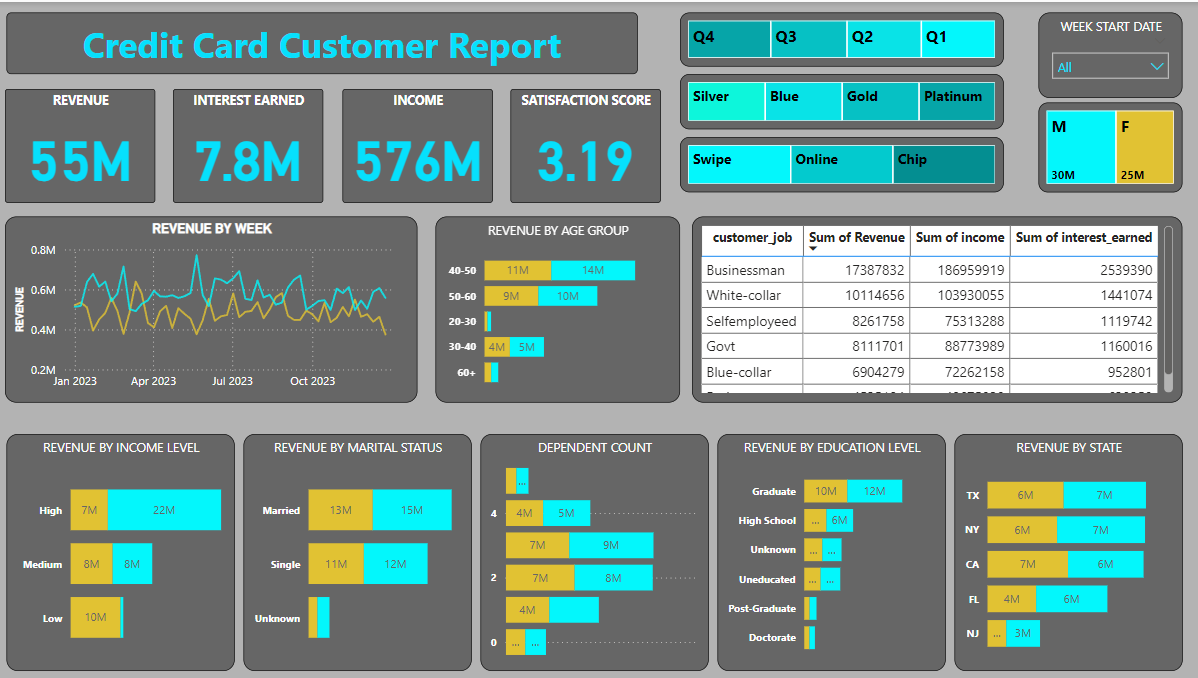

This screenshot's page, from the dashboard's own definition file:
{"tool":"powerbi","page":{"name":"cc customer","canvas":[1280,720],"ordinal":0},"visuals":[{"type":"textbox","box":[11.1,11.1,669.6,65.2],"z":0},{"type":"barChart","title":" REVENUE BY EDUCATION LEVEL","fields":{"Category":["public cust_detail.education_level"],"Y":["Sum(public cc_detail.Revenue)"],"Series":["public cust_detail.gender"]},"box":[765.1,458.1,241.8,251.3],"z":1000},{"type":"tableEx","fields":{"Values":["public cust_detail.customer_job","Sum(public cc_detail.Revenue)","Sum(public cust_detail.income)","Sum(public cc_detail.interest_earned)"]},"box":[738,227.5,520.1,197.2],"z":2000},{"type":"card","title":"REVENUE","fields":{"Values":["Sum(public cc_detail.Revenue)"]},"box":[9.5,92.3,159.1,120.9],"z":3000},{"type":"card","title":"SATISFACTION SCORE","fields":{"Values":["Avg(public cust_detail.cust_satisfaction_score)"]},"box":[545.6,92.3,159.1,120.9],"z":4000},{"type":"card","title":"INCOME","fields":{"Values":["Sum(public cust_detail.income)"]},"box":[366.9,92.3,159.1,120.9],"z":5000},{"type":"card","title":"INTEREST EARNED","fields":{"Values":["Sum(public cc_detail.interest_earned)"]},"box":[188.2,92.3,159.1,120.9],"z":6000},{"type":"slicer","title":"WEEK START DATE","fields":{"Values":["public cc_detail.week_start_date"]},"box":[1105.5,11.1,152.7,90.7],"z":7000},{"type":"treemap","fields":{"Group":["public cc_detail.qtr"],"Values":["Avg(public cc_detail.client_num)"]},"box":[725.3,11.1,343.6,57.3],"z":8000},{"type":"treemap","fields":{"Group":["public cust_detail.gender"],"Values":["Sum(public cc_detail.Revenue)"]},"box":[1105.5,106.6,152.7,95.4],"z":9000},{"type":"treemap","fields":{"Values":["Avg(public cc_detail.client_num)"],"Group":["public cc_detail.card_category"]},"box":[725.3,76.3,343.6,58.9],"z":10000},{"type":"lineChart","title":"REVENUE BY WEEK","fields":{"Y":["Sum(public cc_detail.Revenue)"],"Series":["public cust_detail.gender"],"Category":["public cc_detail.week_start_date.Variation.Date Hierarchy.Year","public cc_detail.week_start_date.Variation.Date Hierarchy.Month","public cc_detail.week_start_date.Variation.Date Hierarchy.Day"]},"box":[9.5,227.5,437.4,197.2],"z":11000},{"type":"barChart","title":" REVENUE BY AGE GROUP","fields":{"Category":["public cust_detail.Age Groups"],"Y":["Sum(public cc_detail.Revenue)"],"Series":["public cust_detail.gender"]},"box":[466,227.5,259.3,197.2],"z":12000},{"type":"barChart","title":"DEPENDENT COUNT","fields":{"Category":["public cust_detail.dependent_count"],"Y":["Sum(public cc_detail.Revenue)"],"Series":["public cust_detail.gender"]},"box":[513.8,458.1,241.8,251.3],"z":13000},{"type":"barChart","title":" REVENUE BY INCOME LEVEL","fields":{"Category":["public cust_detail.Income_Group"],"Y":["Sum(public cc_detail.Revenue)"],"Series":["public cust_detail.gender"]},"box":[11.1,458.1,241.8,251.3],"z":14000},{"type":"barChart","title":" REVENUE BY STATE","fields":{"Category":["public cust_detail.state_cd"],"Y":["Sum(public cc_detail.Revenue)"],"Series":["public cust_detail.gender"]},"box":[1016.4,458.1,241.8,251.3],"z":15000},{"type":"barChart","title":" REVENUE BY MARITAL STATUS","fields":{"Category":["public cust_detail.marital_status"],"Y":["Sum(public cc_detail.Revenue)"],"Series":["public cust_detail.gender"]},"box":[262.5,458.1,241.8,251.3],"z":16000},{"type":"treemap","fields":{"Values":["Avg(public cc_detail.client_num)"],"Group":["public cc_detail.use_chip"]},"box":[725.3,143.2,343.6,58.9],"z":17000}]}

Visuals, with their boxes in screenshot pixels (x1, y1, x2, y2), scaled from the page's 1280x720 canvas onto the 1198x678 screenshot:
textbox: rect(10, 10, 637, 72)
" REVENUE BY EDUCATION LEVEL" barChart: rect(716, 431, 942, 668)
tableEx - public cust_detail.customer_job x Sum(public cc_detail.Revenue): rect(691, 214, 1178, 400)
"REVENUE" card: rect(9, 87, 158, 201)
"SATISFACTION SCORE" card: rect(511, 87, 660, 201)
"INCOME" card: rect(343, 87, 492, 201)
"INTEREST EARNED" card: rect(176, 87, 325, 201)
"WEEK START DATE" slicer: rect(1035, 10, 1178, 96)
treemap - public cc_detail.qtr x Avg(public cc_detail.client_num): rect(679, 10, 1000, 64)
treemap - public cust_detail.gender x Sum(public cc_detail.Revenue): rect(1035, 100, 1178, 190)
treemap - Avg(public cc_detail.client_num) x public cc_detail.card_category: rect(679, 72, 1000, 127)
"REVENUE BY WEEK" lineChart: rect(9, 214, 418, 400)
" REVENUE BY AGE GROUP" barChart: rect(436, 214, 679, 400)
"DEPENDENT COUNT" barChart: rect(481, 431, 707, 668)
" REVENUE BY INCOME LEVEL" barChart: rect(10, 431, 237, 668)
" REVENUE BY STATE" barChart: rect(951, 431, 1178, 668)
" REVENUE BY MARITAL STATUS" barChart: rect(246, 431, 472, 668)
treemap - Avg(public cc_detail.client_num) x public cc_detail.use_chip: rect(679, 135, 1000, 190)
